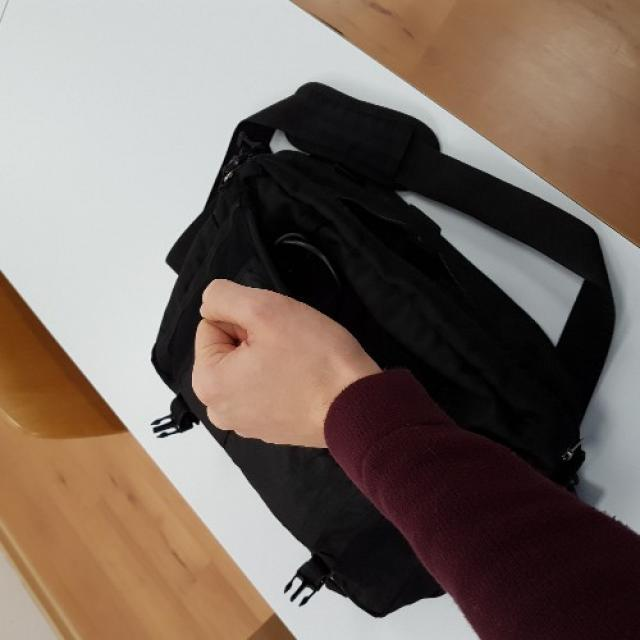rock: (200, 278, 342, 450)
